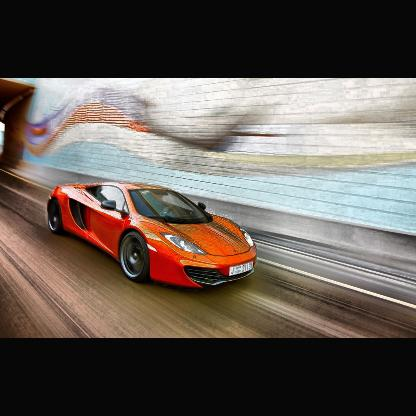McLaren MP4-12C Coupe 2012: (46, 185, 259, 292)
